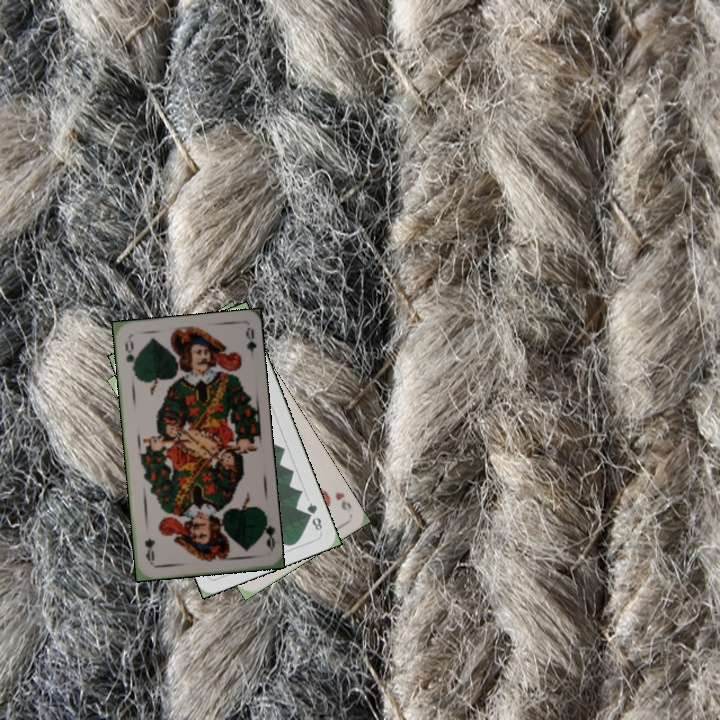G8: (302, 498, 325, 533)
GO: (257, 512, 277, 552), (121, 335, 139, 376)
H9: (331, 487, 354, 514)
